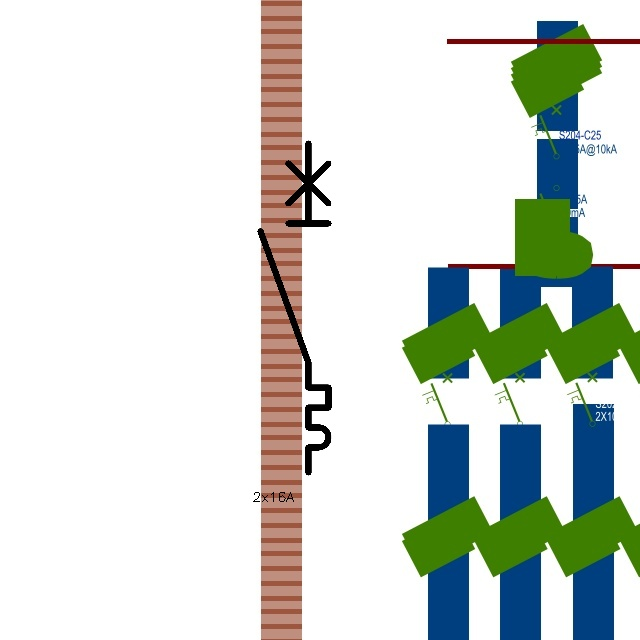interruptor_termomagnetico: (252, 135, 337, 481)
